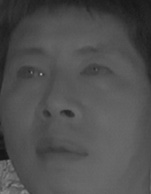eye: (78, 59, 115, 83), (15, 62, 48, 86)
mouth: (36, 133, 87, 164)
